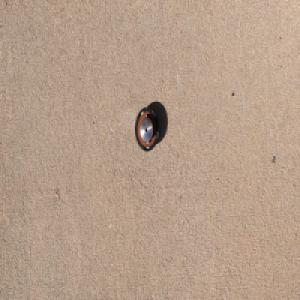FuelCap: (134, 105, 160, 153)
